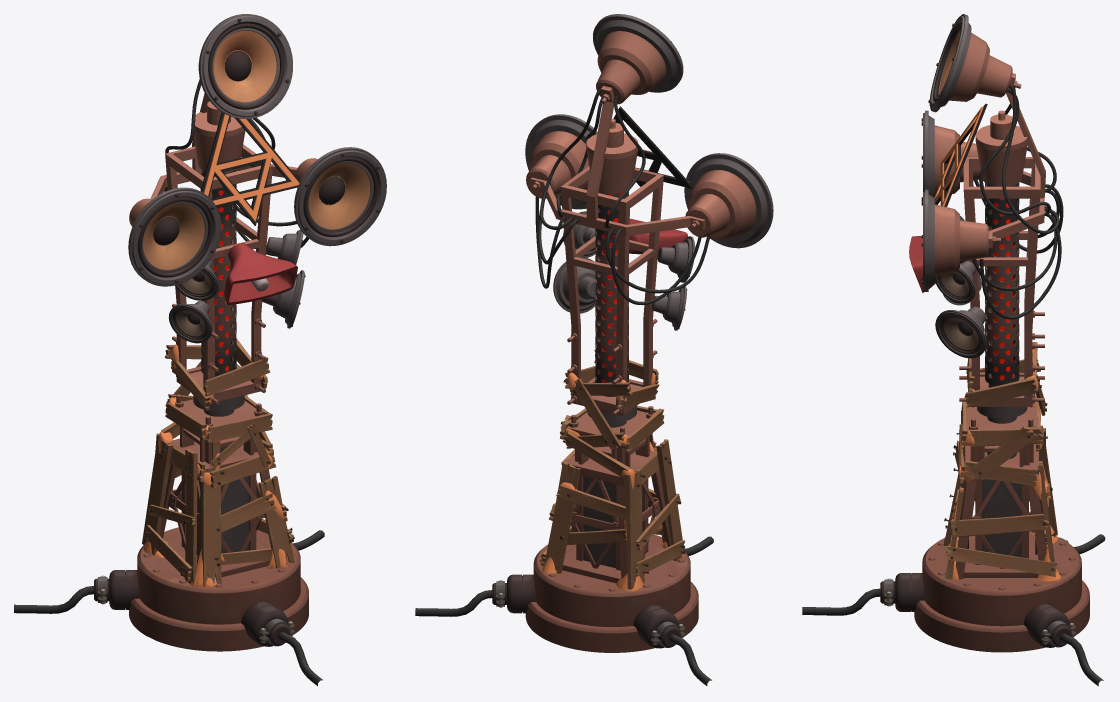
The model's file is Amber_Shrine.glb.
3 views of the same model, side by side, from view 1: azimuth 30°, elevation 25°; view 2: azimuth 150°, elevation 25°; view 3: azimuth 270°, elevation 25° (orthographic). The views are drawn at different scales.
Parts seen in each view (by area): view 1: models\npc\shrine_amber\shrine_amber.vmdl_c.shrine_amber; view 2: models\npc\shrine_amber\shrine_amber.vmdl_c.shrine_amber; view 3: models\npc\shrine_amber\shrine_amber.vmdl_c.shrine_amber.
Part boxes in pixels (bbox=[...]): models\npc\shrine_amber\shrine_amber.vmdl_c.shrine_amber: bbox=[14, 14, 386, 685]; models\npc\shrine_amber\shrine_amber.vmdl_c.shrine_amber: bbox=[415, 14, 773, 685]; models\npc\shrine_amber\shrine_amber.vmdl_c.shrine_amber: bbox=[802, 14, 1105, 686].
Bounding box in the file's own units: 7.48 × 14.07 × 6.48.
Materials: 6 (3 with a texture image).
